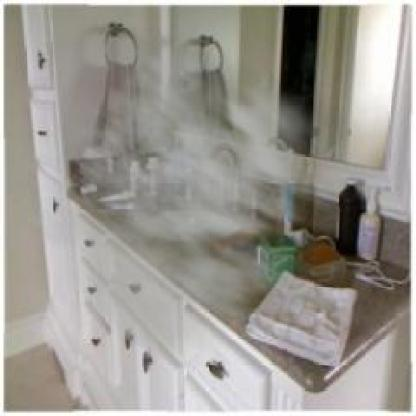Smoke: (24, 27, 376, 375)
